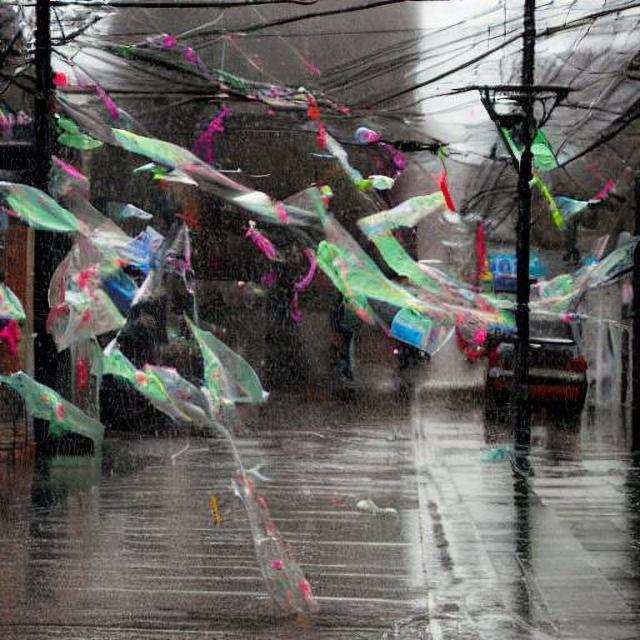floating object: (6, 26, 635, 410), (432, 137, 458, 215)
